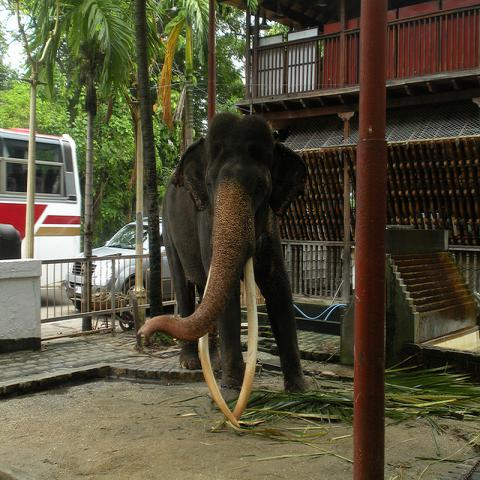bus: (0, 126, 83, 261)
car: (65, 218, 175, 313)
